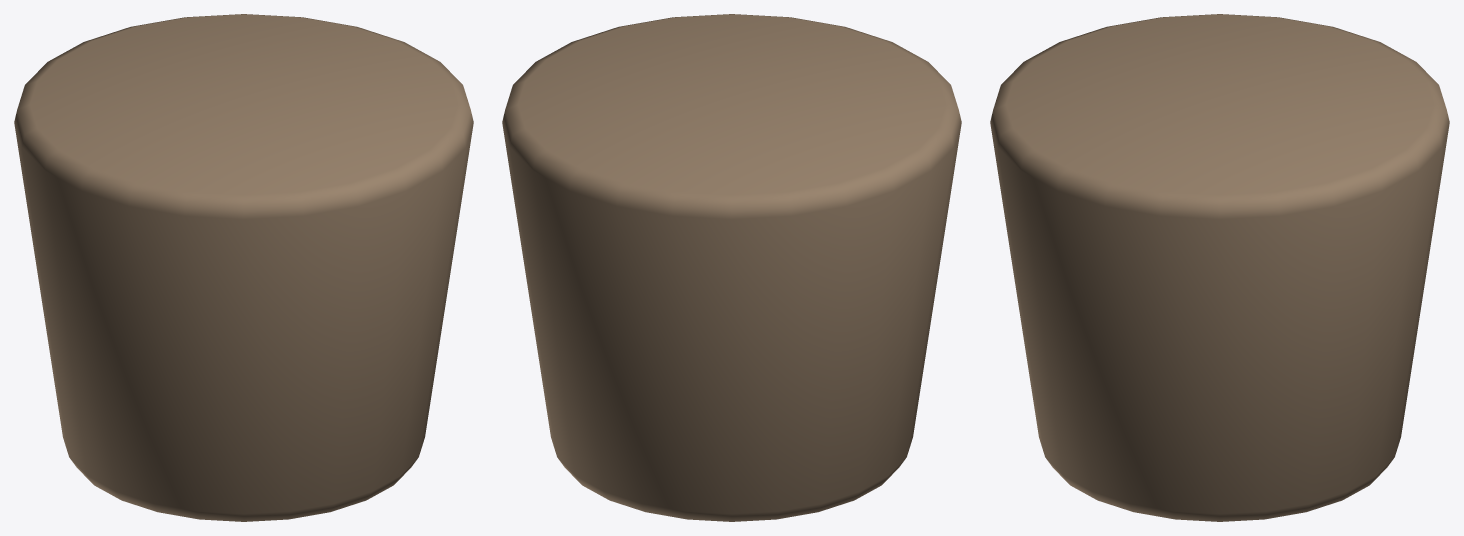
The model's file is TaperCork.fbx.
3 views of the same model, side by side, from view 1: azimuth 30°, elevation 25°; view 2: azimuth 150°, elevation 25°; view 3: azimuth 270°, elevation 25° (orthographic).
Visible parts, largest first — view 1: TaperLid; view 2: TaperLid; view 3: TaperLid.
Part boxes in pixels (x1,y1,x2,y2): TaperLid: [14, 14, 473, 521]; TaperLid: [502, 14, 961, 521]; TaperLid: [990, 14, 1449, 521].
Size of the model in its own units: 52.92 by 44.33 by 52.92.
